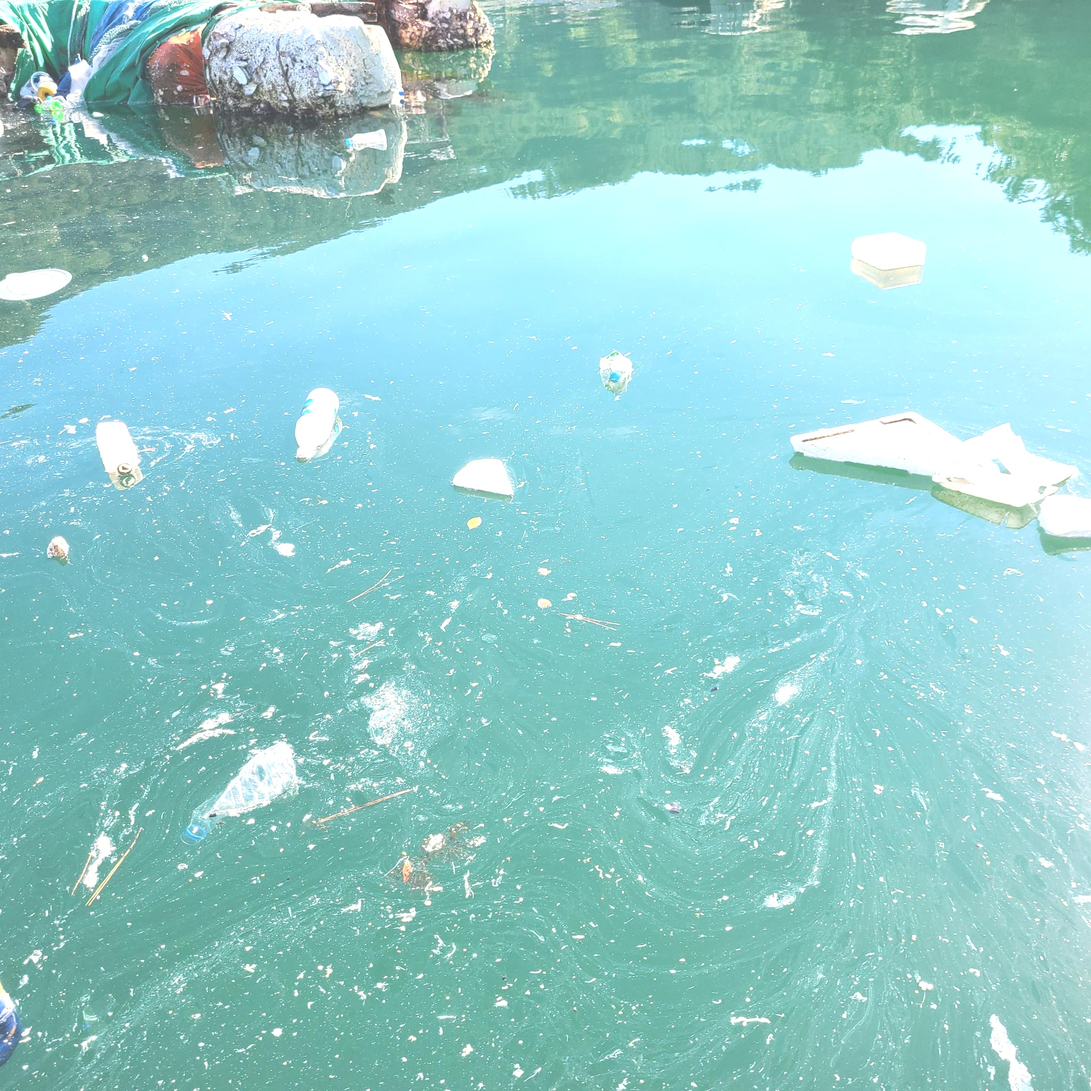sampah_terapung: (203, 9, 402, 116), (932, 423, 1079, 508), (181, 743, 297, 847), (791, 412, 965, 477), (295, 388, 340, 461), (852, 233, 927, 271), (1038, 495, 1091, 539), (453, 459, 514, 496), (98, 422, 138, 475), (600, 350, 633, 384), (346, 130, 387, 145), (38, 82, 58, 103), (47, 96, 76, 109), (67, 90, 85, 103)
